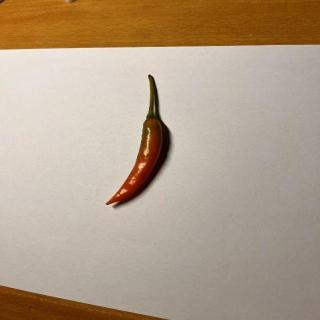Cabai Merah: (106, 74, 164, 206)
